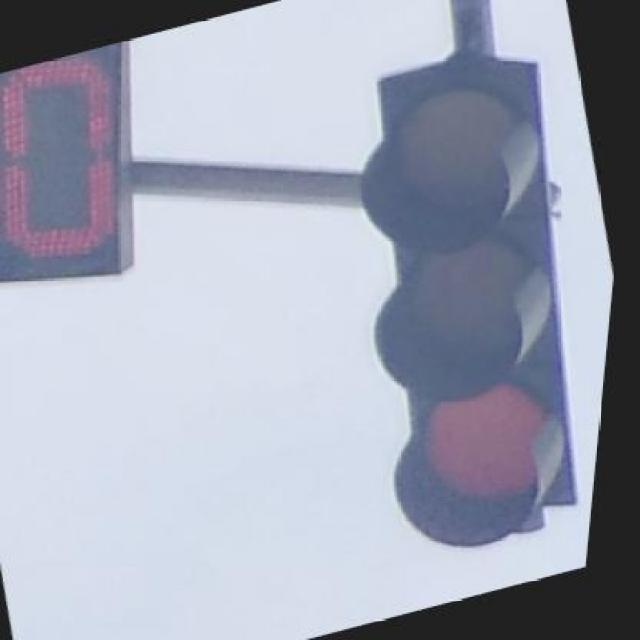red_light: (290, 37, 636, 566)
